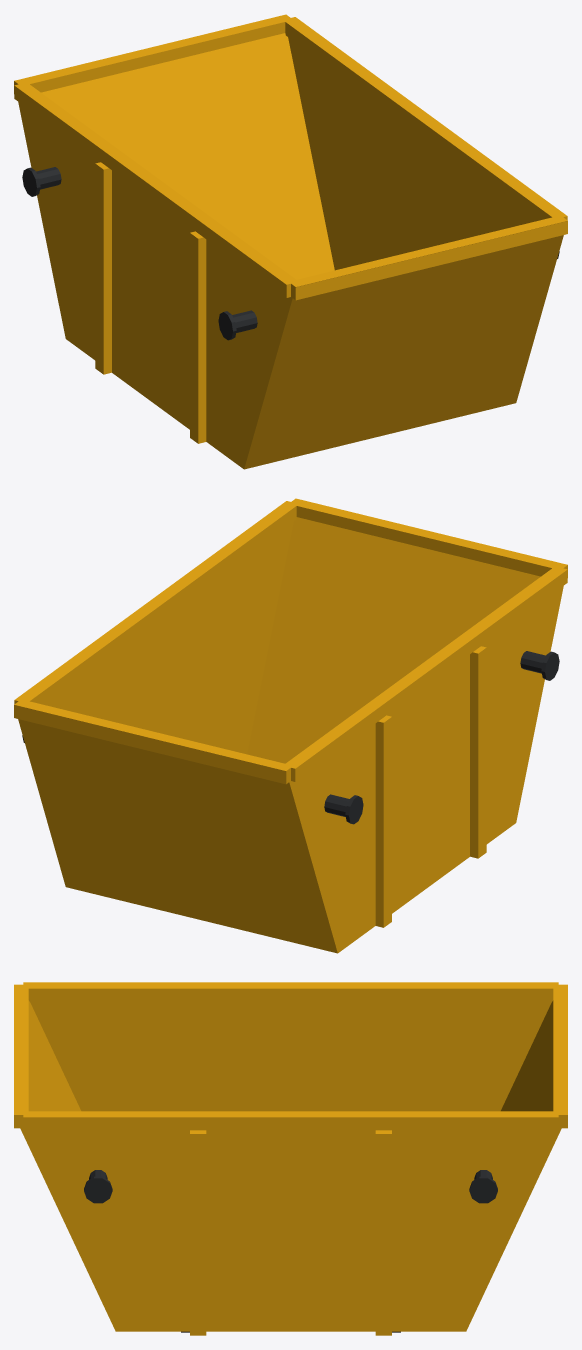
File: plant.skip.6yd.glb
The picture shows the model from 3 angles, top to bottom: view 1: azimuth 30°, elevation 25°; view 2: azimuth 150°, elevation 25°; view 3: azimuth 270°, elevation 25°; orthographic projection.
Visible parts, largest first — view 1: main__plant_yellow, main__steel_dark; view 2: main__plant_yellow, main__steel_dark; view 3: main__plant_yellow, main__steel_dark.
Part boxes in pixels (bbox=[...]): main__plant_yellow: bbox=[14, 14, 567, 469]; main__steel_dark: bbox=[22, 167, 559, 340]; main__plant_yellow: bbox=[14, 498, 567, 953]; main__steel_dark: bbox=[22, 651, 559, 824]; main__plant_yellow: bbox=[14, 982, 567, 1335]; main__steel_dark: bbox=[84, 1170, 497, 1332].
Size of the model in its own units: 1.8 by 1.2 by 2.69.
